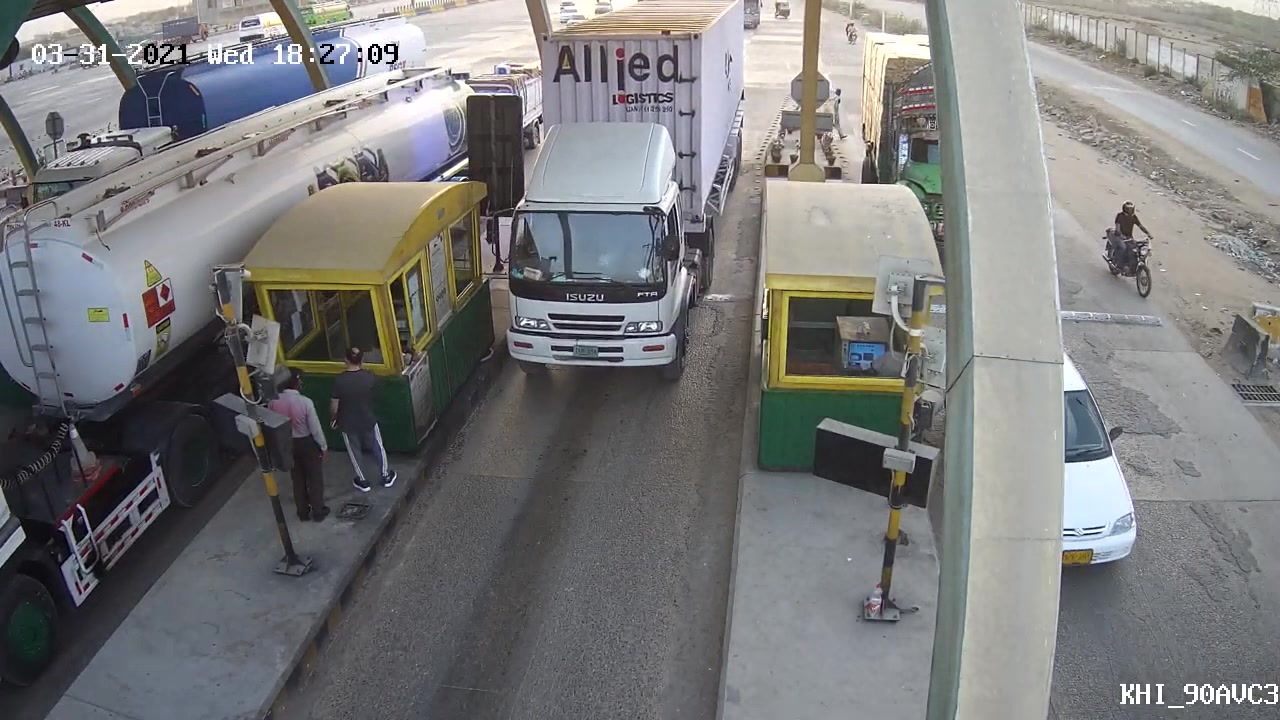F6: (479, 175, 702, 392)
